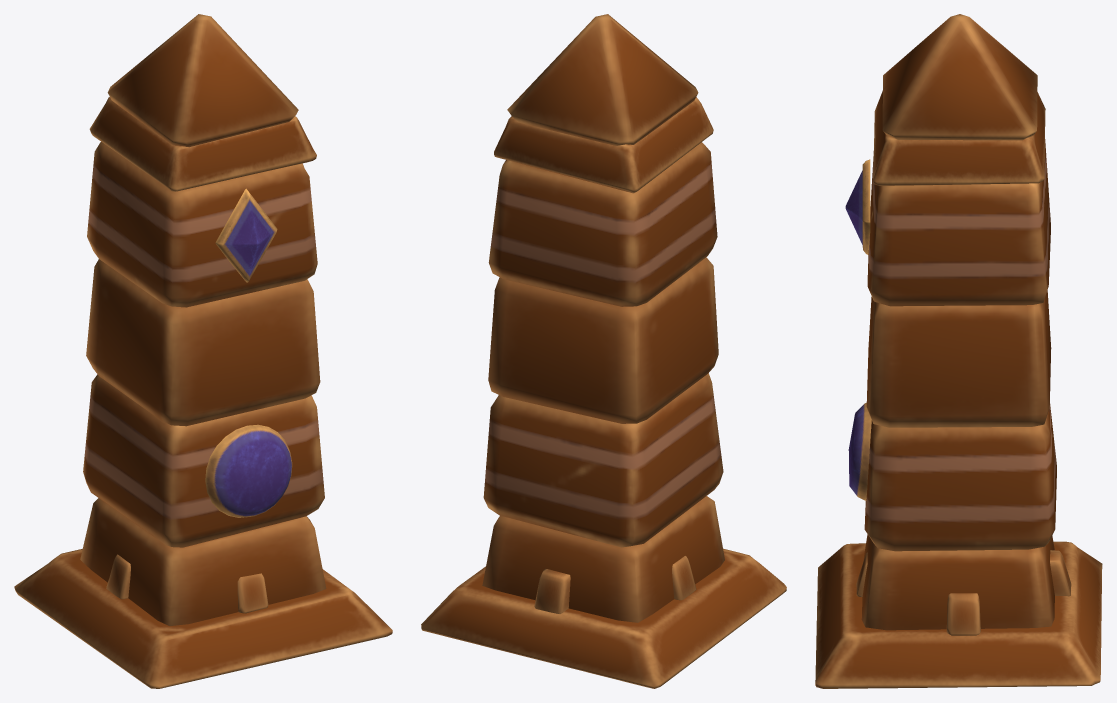
File: stonepillar3.fbx
3 views of the same model, side by side, from view 1: azimuth 30°, elevation 25°; view 2: azimuth 150°, elevation 25°; view 3: azimuth 270°, elevation 25° (orthographic). The views are drawn at different scales.
Parts seen in each view (by area): view 1: stone3_low006, stone2_low005, stone3_low005, stone5_low007, stone2_low006, stone1_low002, stone5_low008; view 2: stone3_low006, stone2_low005, stone3_low005, stone5_low007, stone2_low006, stone1_low002, stone5_low008; view 3: stone3_low006, stone3_low005, stone5_low007, stone2_low005, stone2_low006, stone1_low002, stone5_low008.
Part boxes in pixels (box(x1,y1,x2,y2)): stone3_low006: box(83, 374, 324, 547); stone2_low005: box(86, 259, 320, 426); stone3_low005: box(87, 142, 317, 307); stone5_low007: box(14, 549, 392, 688); stone2_low006: box(80, 498, 326, 625); stone1_low002: box(107, 14, 298, 147); stone5_low008: box(89, 97, 316, 191); stone3_low006: box(483, 373, 723, 547); stone2_low005: box(488, 257, 718, 423); stone3_low005: box(488, 142, 717, 306); stone5_low007: box(421, 548, 786, 688); stone2_low006: box(482, 496, 724, 622); stone1_low002: box(507, 14, 698, 145); stone5_low008: box(494, 97, 713, 193); stone3_low006: box(848, 403, 1056, 551); stone3_low005: box(845, 139, 1050, 306); stone5_low007: box(815, 541, 1102, 688); stone2_low005: box(866, 290, 1051, 427); stone2_low006: box(856, 534, 1071, 635); stone1_low002: box(882, 14, 1037, 140); stone5_low008: box(873, 90, 1045, 185).
Size of the model in its own units: 1878 by 1869 by 4416.
